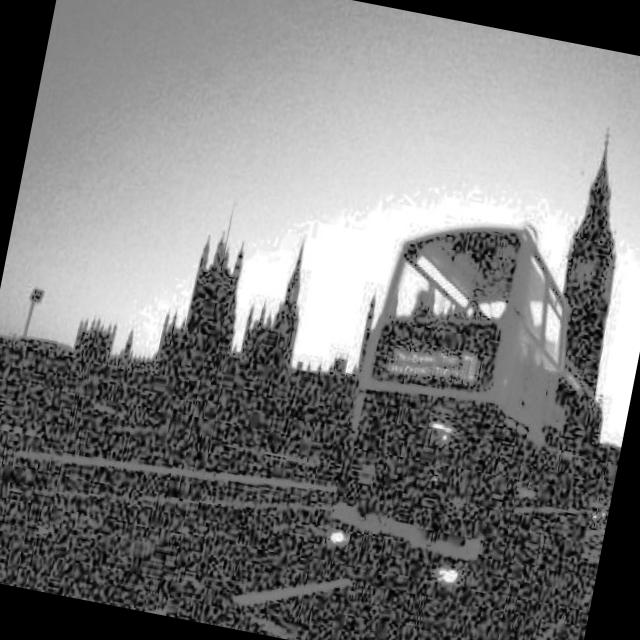Bus: (308, 175, 640, 640)
